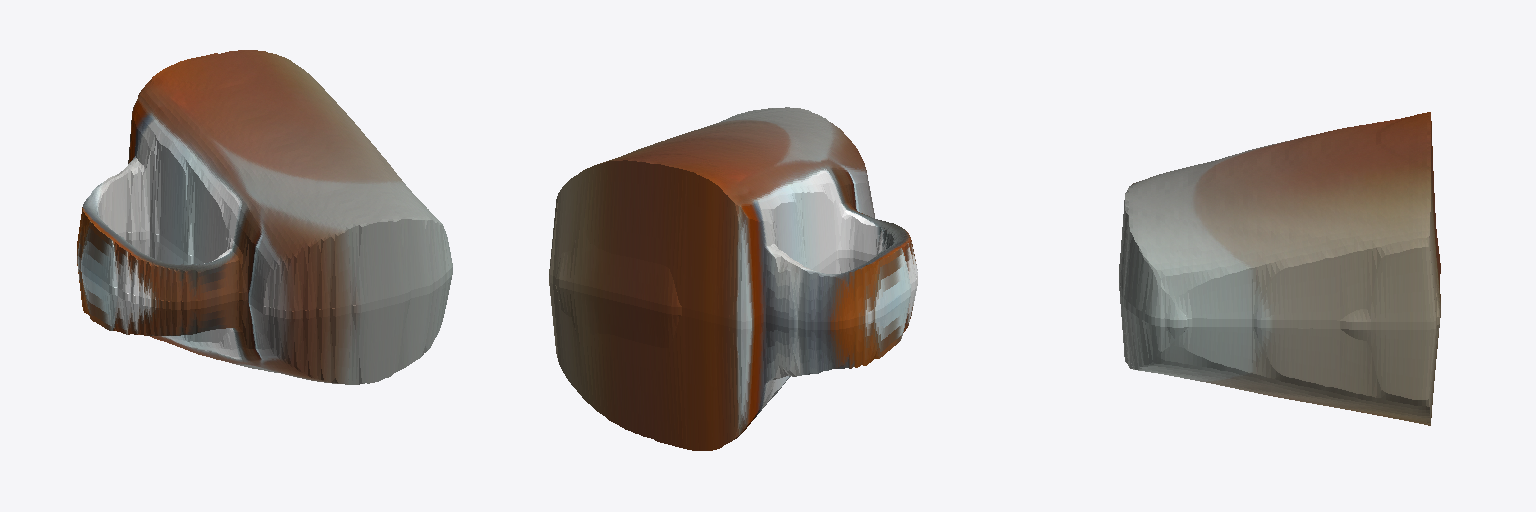
3 renders of one model, left to right at view 1: azimuth 30°, elevation 25°; view 2: azimuth 150°, elevation 25°; view 3: azimuth 270°, elevation 25°, orthographic.
Visible parts, largest first — view 1: Grid; view 2: Grid; view 3: Grid.
Boxes of the visible parts, x1=… form: Grid: x1=77, y1=50, x2=452, y2=384; Grid: x1=549, y1=107, x2=917, y2=450; Grid: x1=1119, y1=112, x2=1440, y2=425.
Bounding box in the file's own units: 1.5 × 1.39 × 1.45.
2 materials, 1 textured.